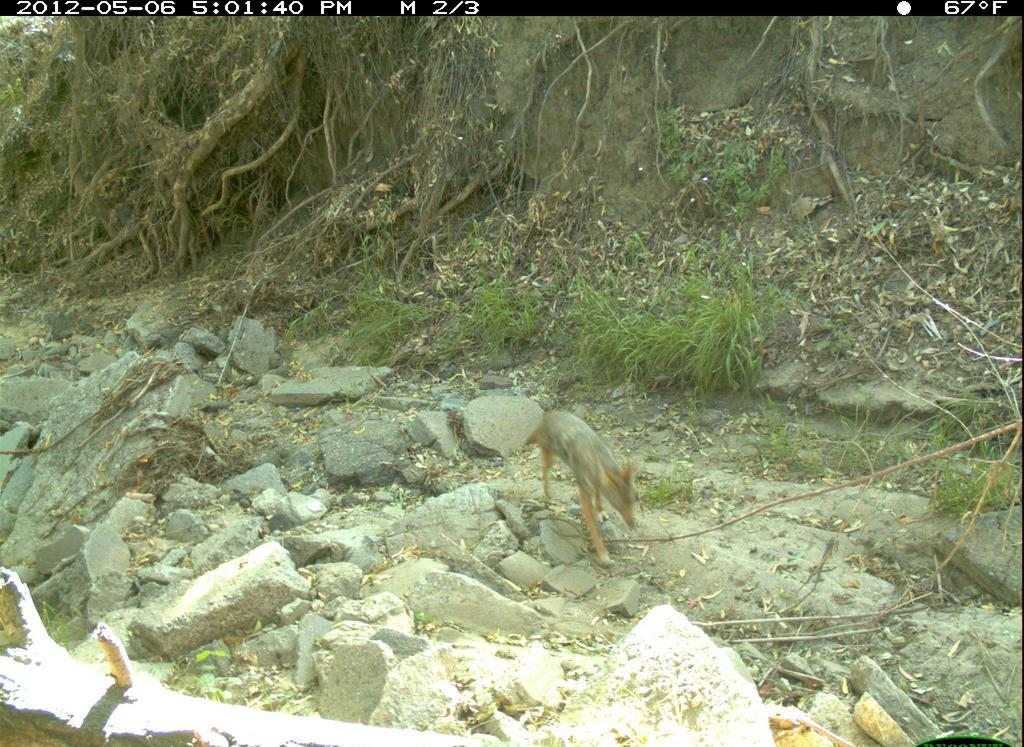coyote: (500, 385, 671, 598)
